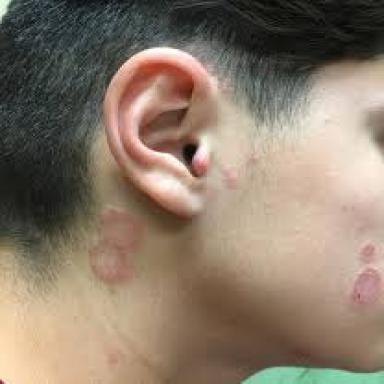Tinea-Corporis: (89, 205, 146, 279), (353, 265, 382, 303)
